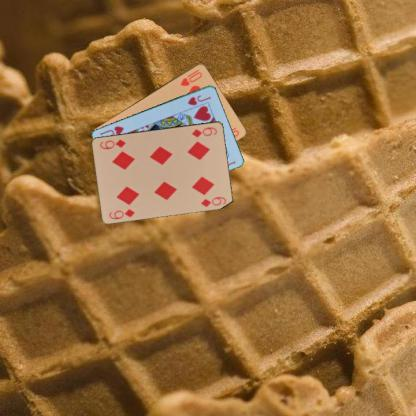10h: (178, 66, 203, 88)
6d: (190, 124, 218, 139), (107, 206, 136, 220)
Jh: (185, 92, 212, 107)
